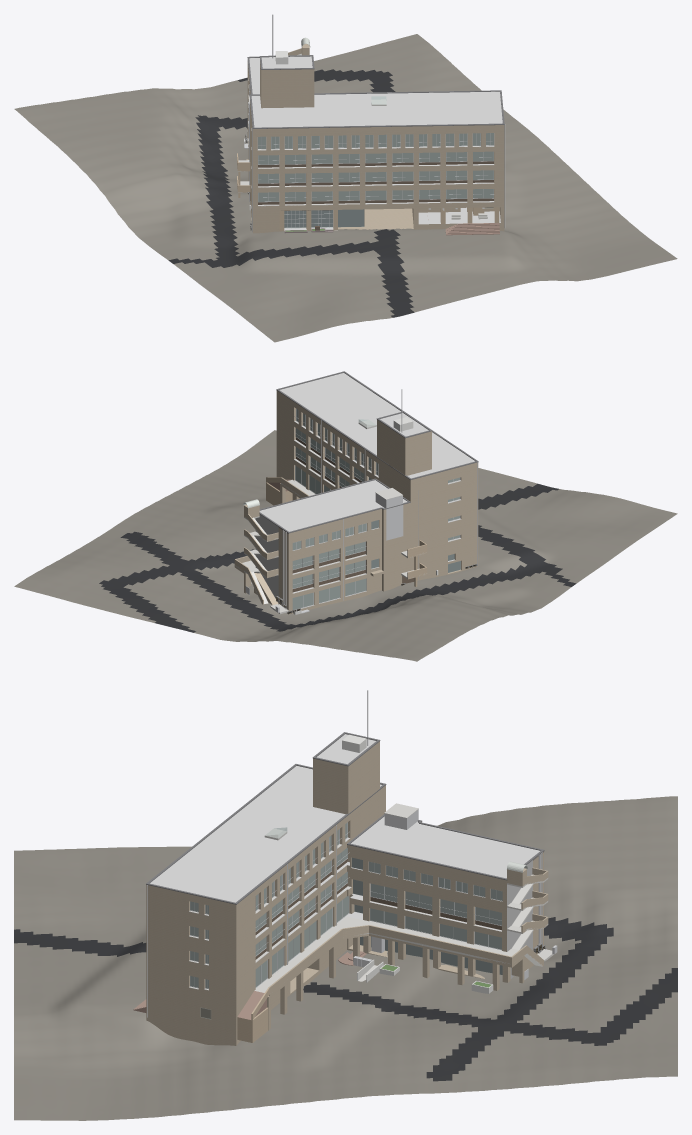
File: honbu.glb
The picture shows the model from 3 angles, top to bottom: view 1: azimuth 30°, elevation 25°; view 2: azimuth 150°, elevation 25°; view 3: azimuth 270°, elevation 25°; orthographic projection. The views are drawn at different scales.
Visible parts, largest first — view 1: terrain, honbu_south_wing, footing_south_wing, porch_0_glass, porch_0_interior, coping_south_wing_1; view 2: terrain, honbu_south_wing, patch_38_patch; view 3: terrain, honbu_south_wing, composite_24_slab, footing_south_wing, composite_24_parapet2, composite_24_parapet0, composite_28_shopfront_glass, composite_25_base, composite_28_shopfront_room.
Boxes of the visible parts, box(x1,y1,x2,y2) form: terrain: box(14, 34, 677, 342); honbu_south_wing: box(247, 56, 504, 232); footing_south_wing: box(251, 208, 504, 233); porch_0_glass: box(284, 210, 332, 228); porch_0_interior: box(284, 210, 332, 227); coping_south_wing_1: box(252, 123, 504, 128); terrain: box(14, 430, 677, 661); honbu_south_wing: box(255, 373, 478, 614); patch_38_patch: box(386, 505, 403, 540); terrain: box(14, 796, 677, 1120); honbu_south_wing: box(146, 734, 543, 1036); composite_24_slab: box(254, 916, 514, 992); footing_south_wing: box(146, 948, 346, 1045); composite_24_parapet2: box(369, 925, 512, 967); composite_24_parapet0: box(268, 929, 342, 997); composite_28_shopfront_glass: box(360, 936, 502, 974); composite_25_base: box(237, 1007, 268, 1042); composite_28_shopfront_room: box(360, 937, 502, 974).
Bounding box in the file's own units: 92 × 45.43 × 103.
27 materials, 11 textured.
